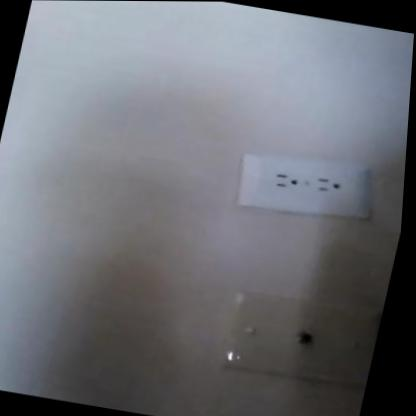OUTLET: (234, 146, 374, 221)
